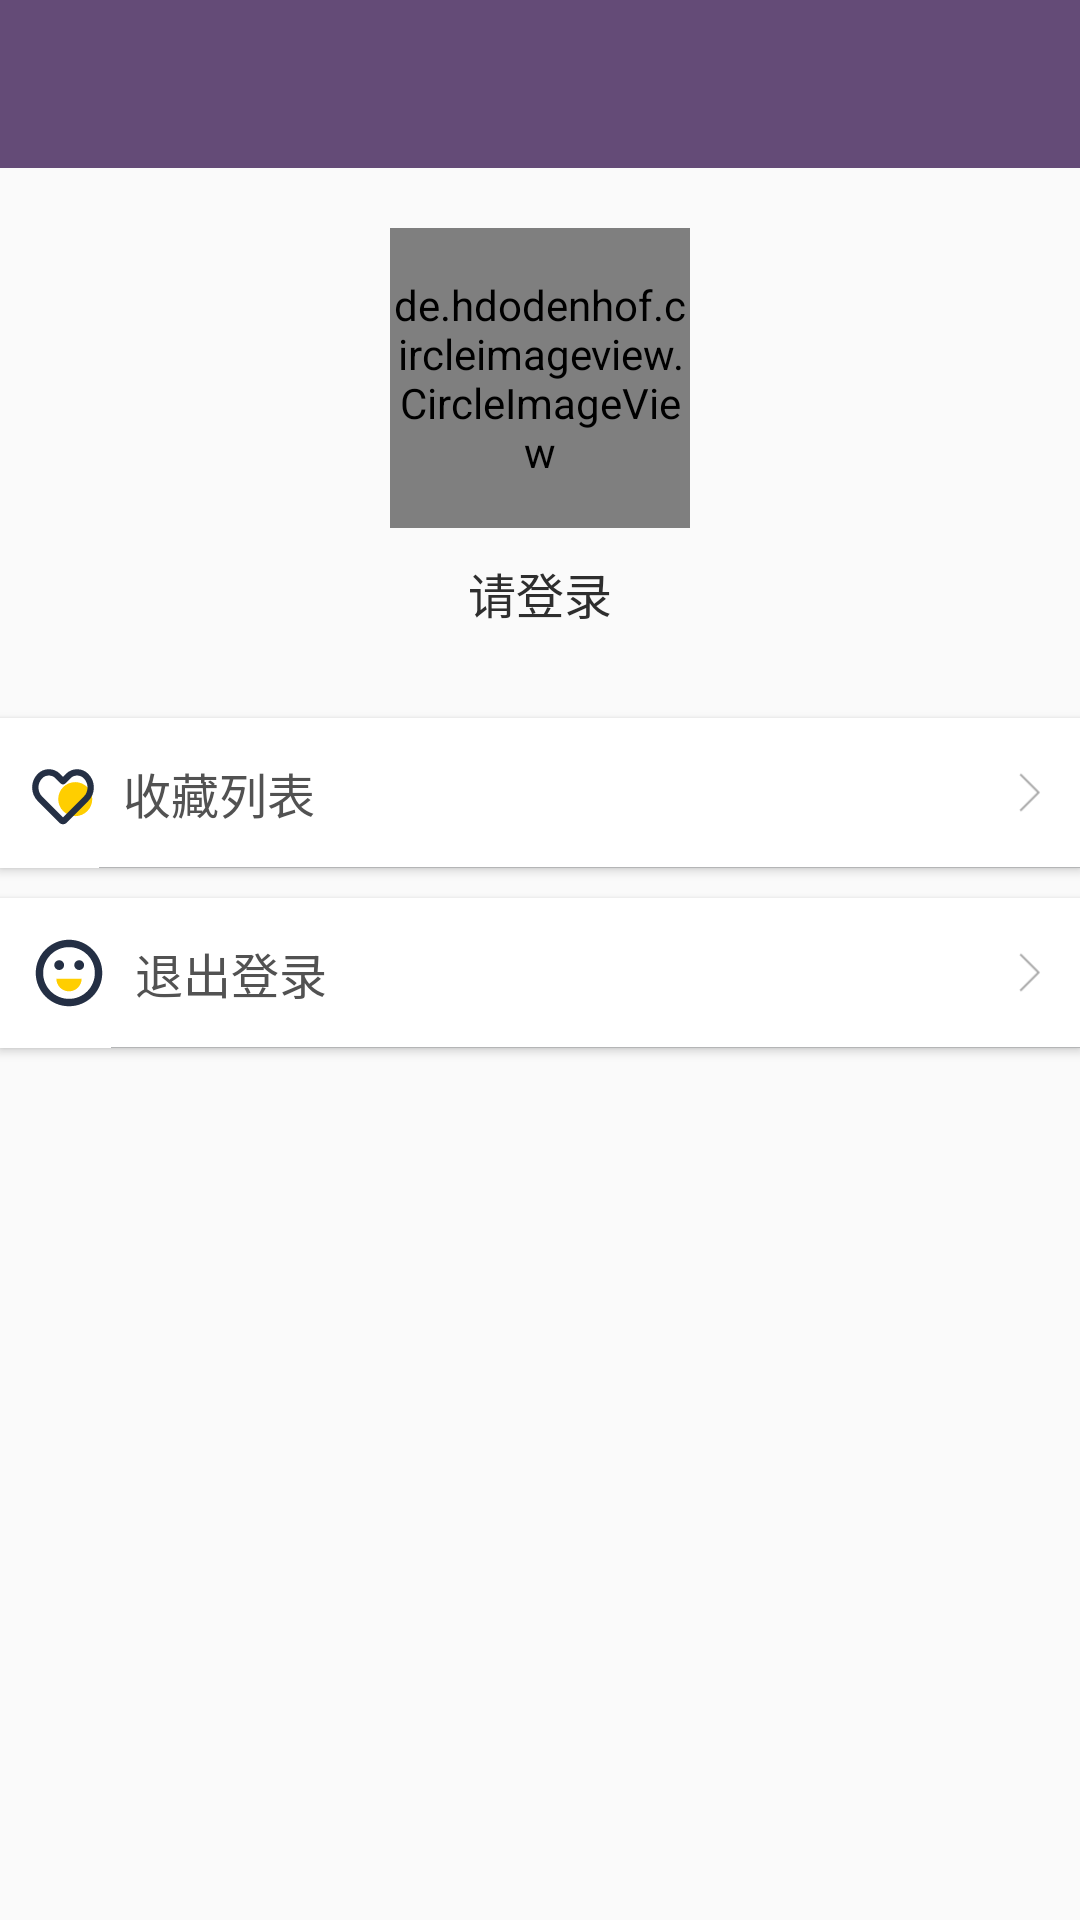

Icon click points for this 1080*1920 phone screenshot, format [x,y]:
setting more: [1030,792], [1030,972]
